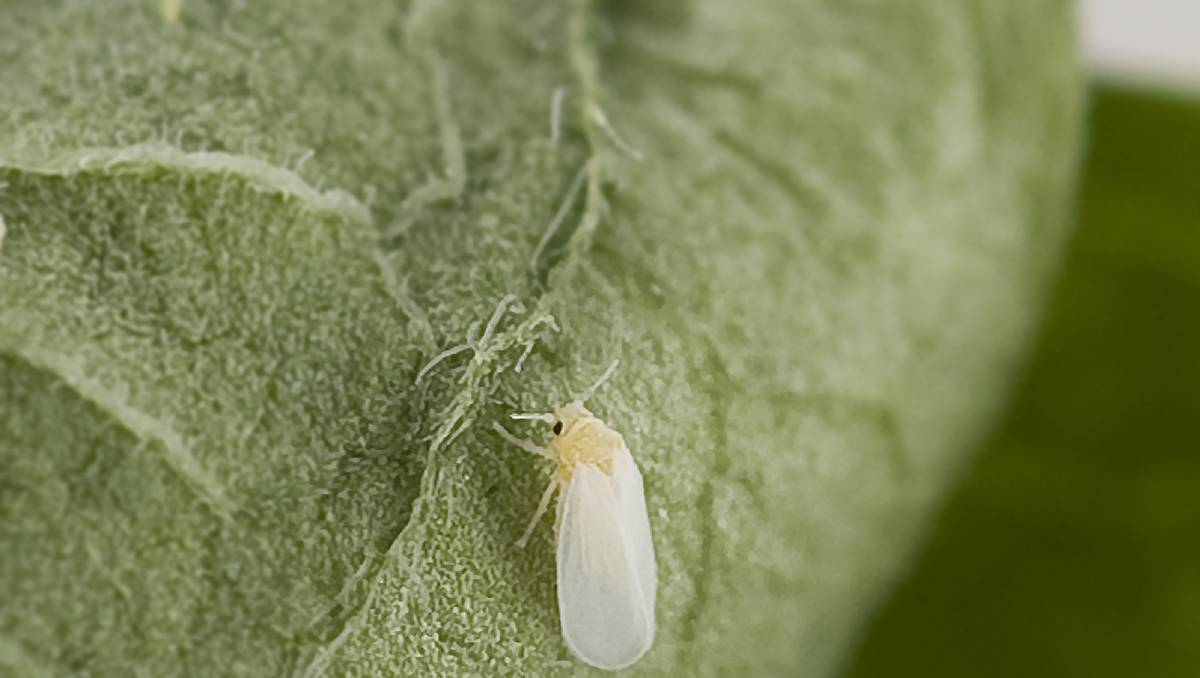Tobacco Whitefly: (492, 386, 694, 678)
